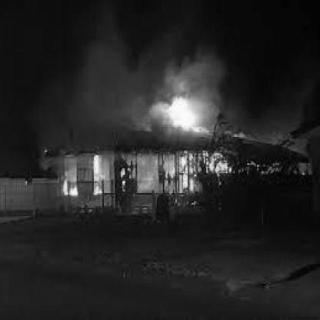Fire: (164, 93, 206, 131), (63, 171, 80, 197), (92, 154, 101, 190)
Smoke: (178, 60, 222, 90)
